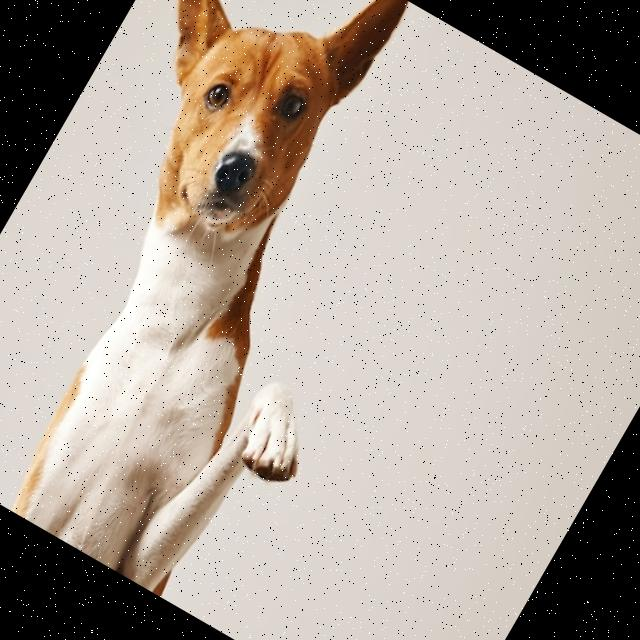Dog: (0, 0, 529, 625)
